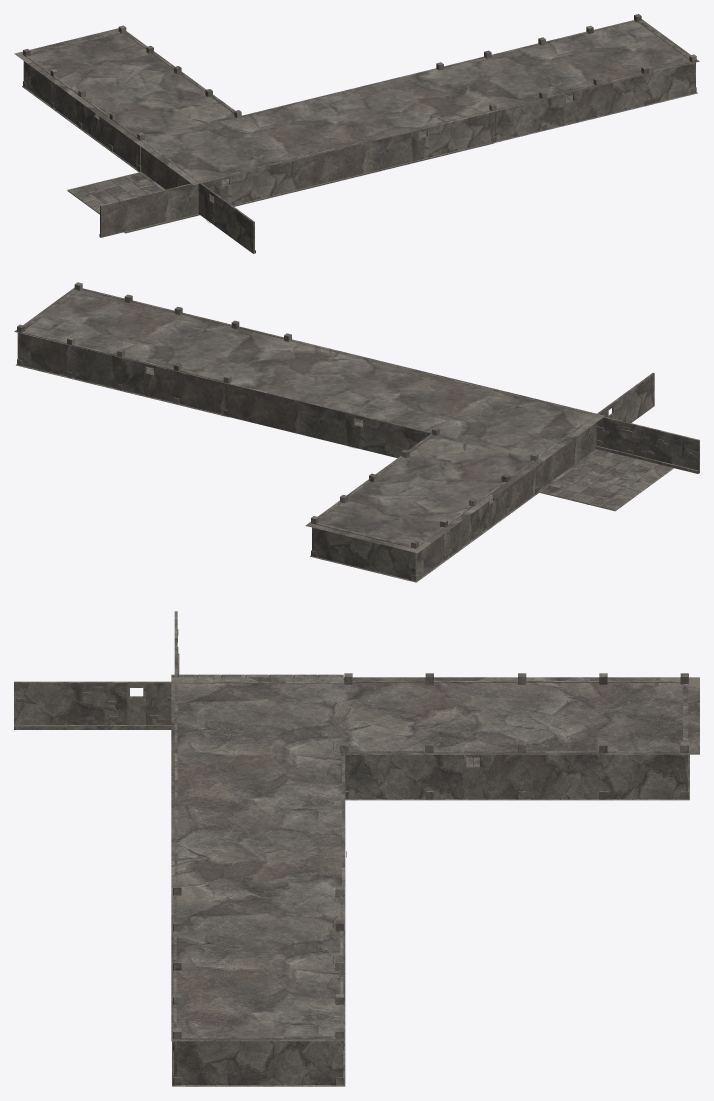
Rendered from level.glb.
The picture shows the model from 3 angles, top to bottom: view 1: azimuth 30°, elevation 25°; view 2: azimuth 150°, elevation 25°; view 3: azimuth 270°, elevation 25°; orthographic projection. The views are drawn at different scales.
Parts seen in each view (by area): view 1: Plane; view 2: Plane; view 3: Plane.
Boxes of the visible parts, x1,y1,x2,y2 form: Plane: (14,14,699,253); Plane: (14,282,699,582); Plane: (14,611,699,1086).
Size of the model in its own units: 140 by 8.33 by 94.5.
4 materials, 4 textured.
